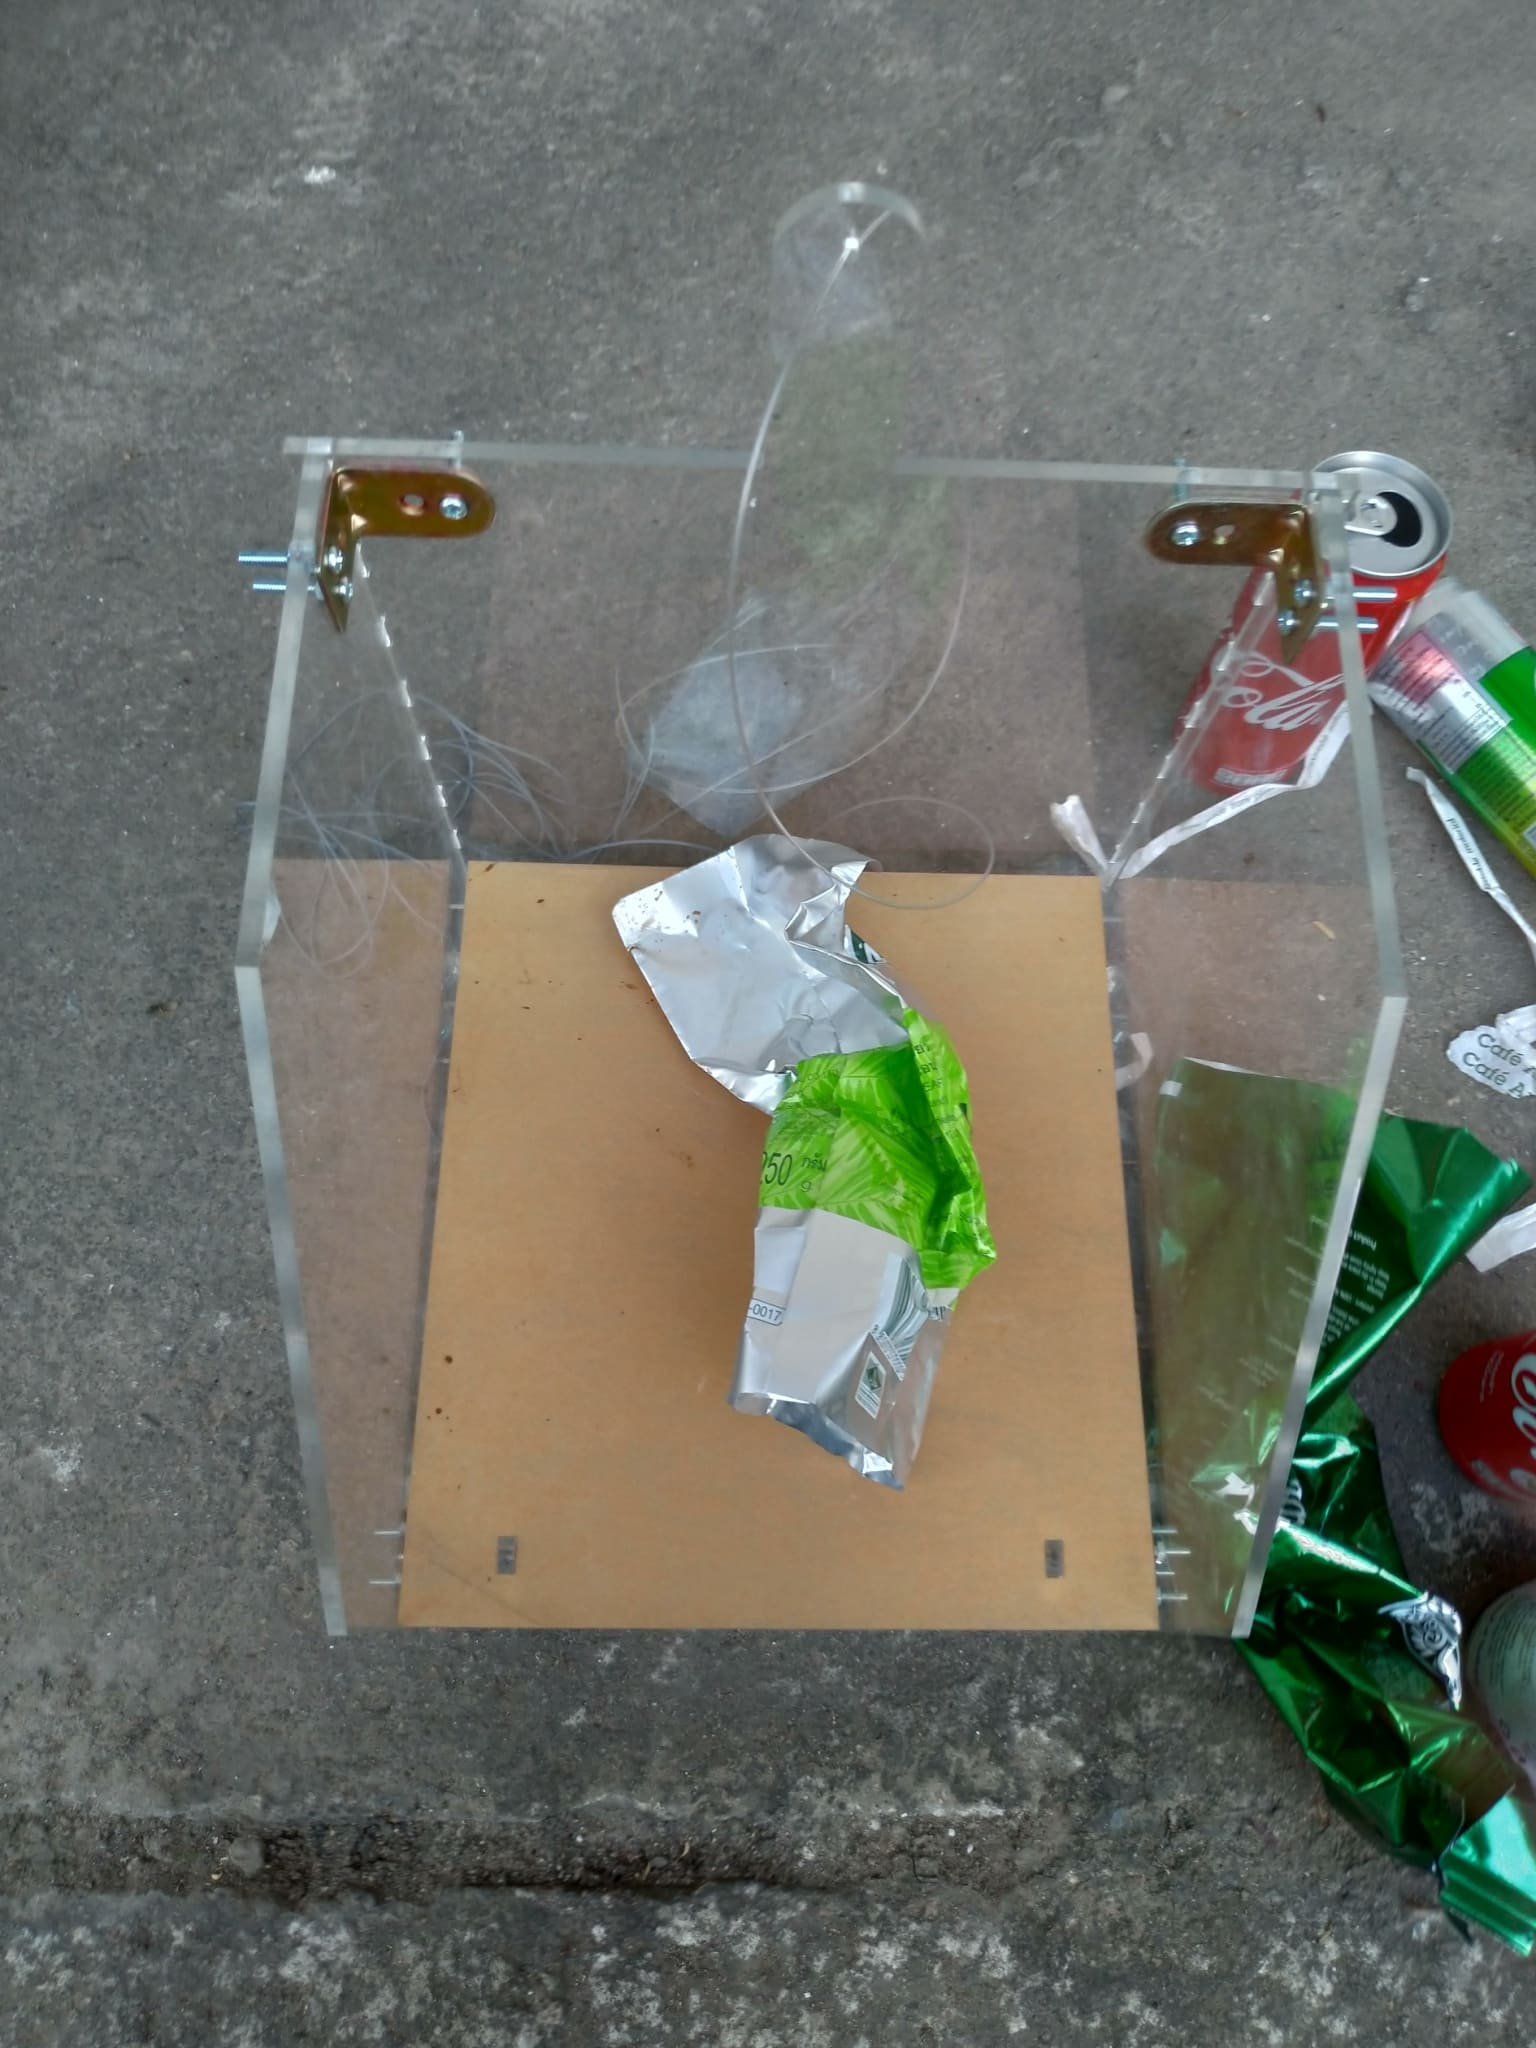AlCan: (1187, 448, 1447, 805), (1360, 577, 1536, 893), (1433, 1332, 1536, 1496)
Others: (1150, 1055, 1536, 1958), (613, 830, 984, 1484)
